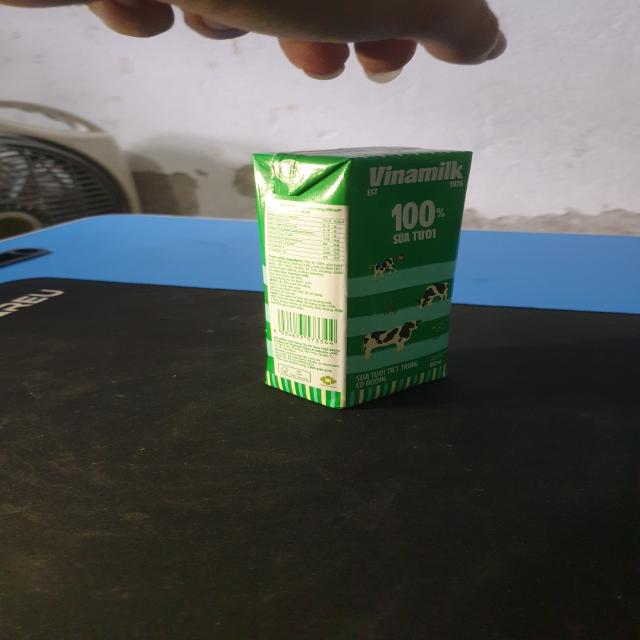Vina: (250, 146, 476, 413)
